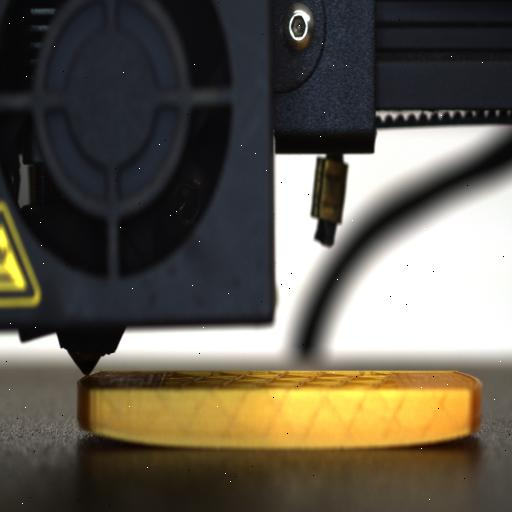warp: (72, 415, 148, 449), (396, 422, 482, 450)
